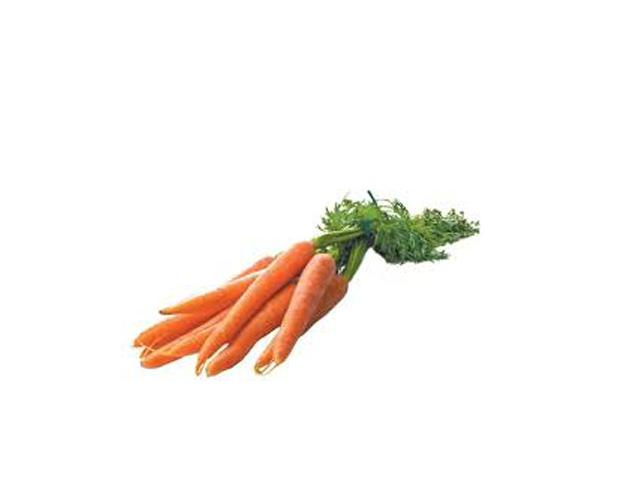carrot: (278, 262, 350, 410)
